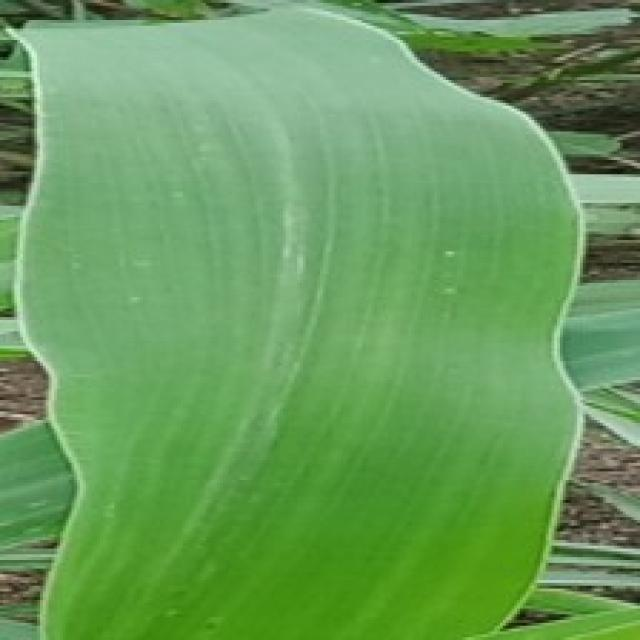Corn: (3, 0, 588, 637), (0, 200, 29, 360)
